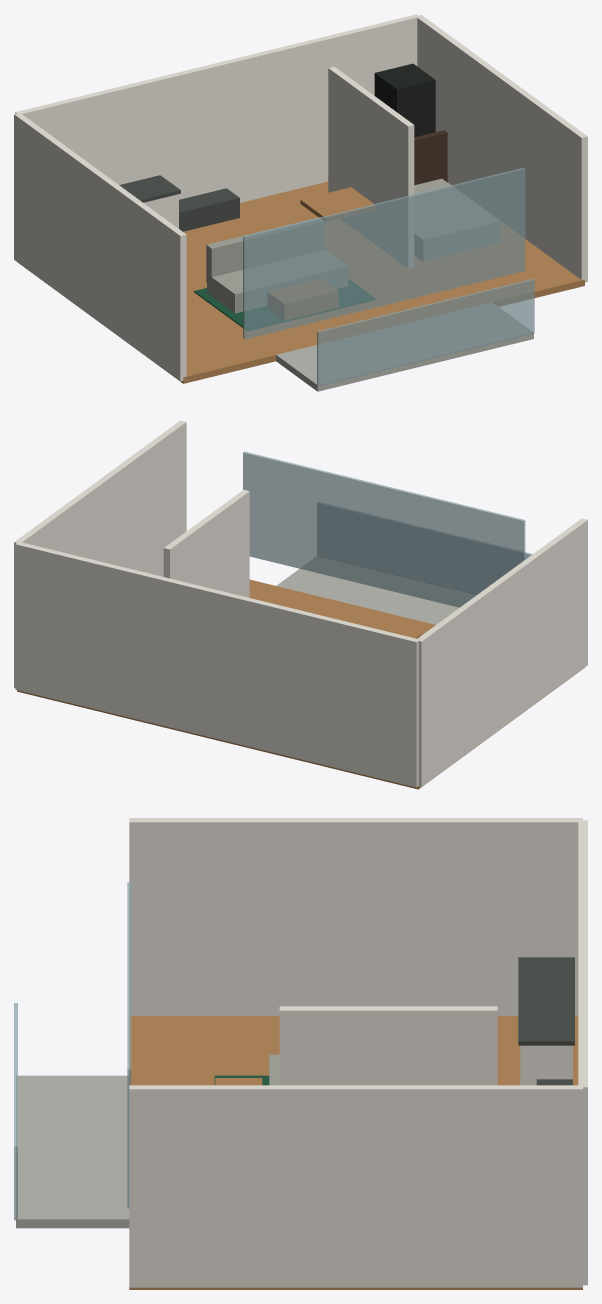
The model's file is one-bedroom.glb.
3 views of the same model, one above another, from view 1: azimuth 30°, elevation 25°; view 2: azimuth 150°, elevation 25°; view 3: azimuth 270°, elevation 25° (orthographic). The views are drawn at different scales.
Parts seen in each view (by area): view 1: WALL_BACK, WINDOW_FRONT, FLOOR_WOOD, WALL_LEFT, WALL_RIGHT, BALCONY_RAIL, PARTITION_1, BALCONY, BED_1, SOFA_BASE, SOFA_BACK, FRIDGE (+7 smaller); view 2: WALL_BACK, WINDOW_FRONT, WALL_LEFT, WALL_RIGHT, BALCONY_RAIL, BALCONY, PARTITION_1, FLOOR_WOOD; view 3: WALL_RIGHT, WALL_LEFT, PARTITION_1, BALCONY, FLOOR_WOOD, KITCHEN_TOP, WALL_BACK, KITCHEN_COUNTER, WINDOW_FRONT, BALCONY_RAIL.
Boxes of the visible parts, x1=… form: WALL_BACK: x1=15, y1=14, x2=419, y2=202; WINDOW_FRONT: x1=243, y1=167, x2=525, y2=339; FLOOR_WOOD: x1=17, y1=181, x2=584, y2=383; WALL_LEFT: x1=14, y1=113, x2=186, y2=381; WALL_RIGHT: x1=416, y1=15, x2=587, y2=282; BALCONY_RAIL: x1=317, y1=279, x2=534, y2=386; PARTITION_1: x1=328, y1=66, x2=414, y2=268; BALCONY: x1=276, y1=302, x2=533, y2=391; BED_1: x1=414, y1=178, x2=499, y2=261; SOFA_BASE: x1=207, y1=250, x2=347, y2=313; SOFA_BACK: x1=206, y1=217, x2=324, y2=285; FRIDGE: x1=374, y1=63, x2=435, y2=137; WALL_BACK: x1=15, y1=541, x2=419, y2=787; WINDOW_FRONT: x1=243, y1=451, x2=525, y2=607; WALL_LEFT: x1=416, y1=518, x2=587, y2=786; WALL_RIGHT: x1=14, y1=420, x2=186, y2=687; BALCONY_RAIL: x1=317, y1=502, x2=532, y2=594; BALCONY: x1=276, y1=556, x2=475, y2=624; PARTITION_1: x1=163, y1=489, x2=249, y2=597; FLOOR_WOOD: x1=17, y1=579, x2=582, y2=789; WALL_RIGHT: x1=129, y1=1085, x2=582, y2=1287; WALL_LEFT: x1=129, y1=818, x2=582, y2=1015; PARTITION_1: x1=279, y1=1006, x2=497, y2=1085; BALCONY: x1=16, y1=1075, x2=129, y2=1228; FLOOR_WOOD: x1=129, y1=1016, x2=582, y2=1289; KITCHEN_TOP: x1=518, y1=957, x2=574, y2=1045; WALL_BACK: x1=578, y1=820, x2=587, y2=1285; KITCHEN_COUNTER: x1=520, y1=1045, x2=572, y2=1085; WINDOW_FRONT: x1=127, y1=882, x2=131, y2=1208; BALCONY_RAIL: x1=14, y1=1003, x2=17, y2=1220.
Size of what is drawn, in the model's own units: 7.92 by 2.76 by 7.08.
